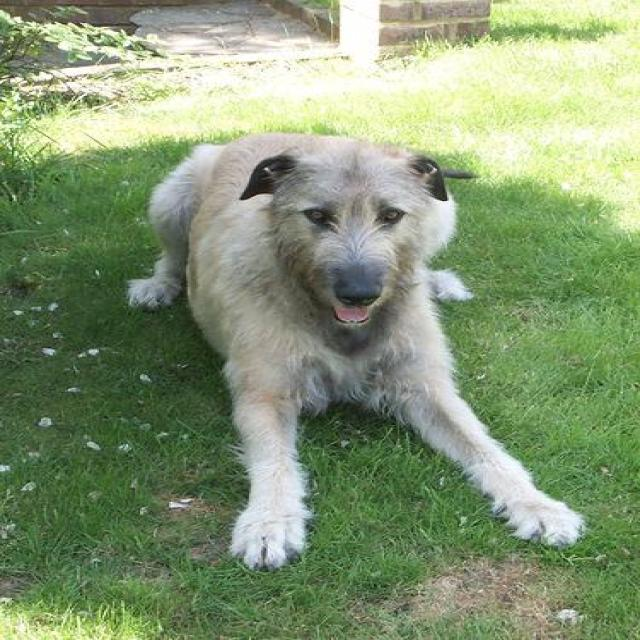irish_wolfhound: (122, 129, 586, 567)
